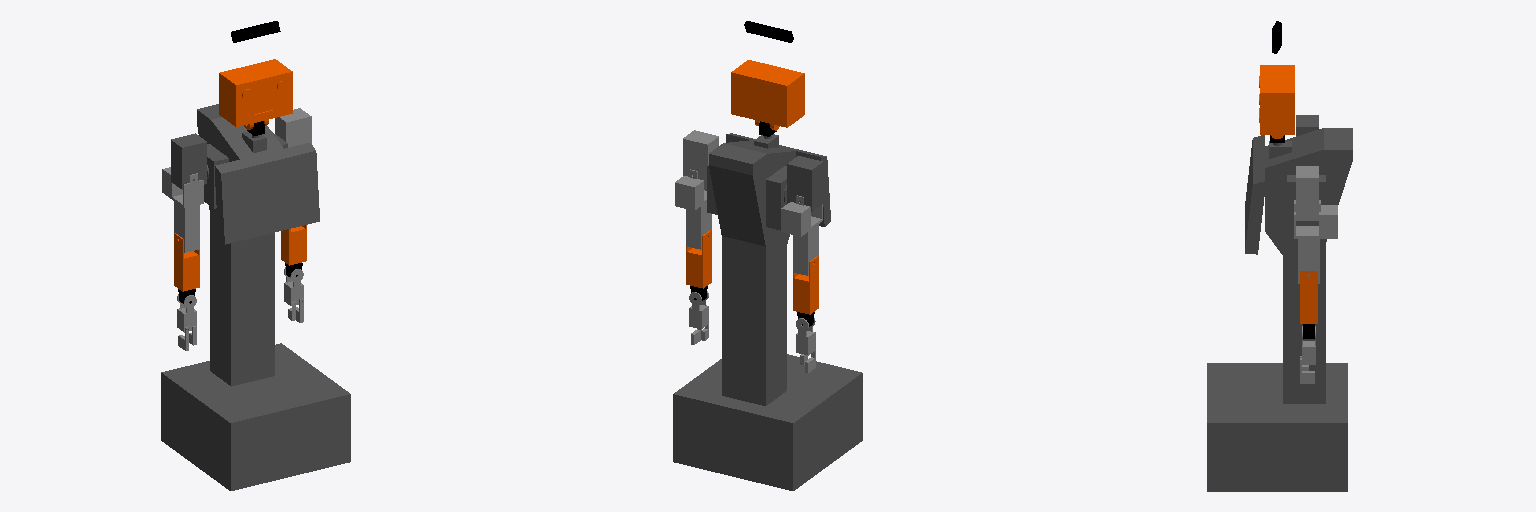
--- Render facts (derived) ---
Views: 3 orthographic renders of the robot side by side, from view 1: azimuth 30°, elevation 25°; view 2: azimuth 150°, elevation 25°; view 3: azimuth 270°, elevation 25°.
Model tangymodel_eff with 23 links and 22 joints (18 revolute, 4 fixed), rooted at dummy_link, posed all joints at 0.
Visible links, largest first — view 1: base_link, head_link, right_shoulder_pitch_link, lower_right_arm, left_shoulder_pitch_link, upper_right_arm, right_shoulder_roll_link, lower_left_arm, left_hand, kinect_link, right_hand; view 2: base_link, head_link, right_shoulder_pitch_link, left_shoulder_pitch_link, right_shoulder_roll_link, lower_left_arm, lower_right_arm, left_shoulder_roll_link, upper_right_arm, upper_left_arm, right_hand, left_hand (+1 smaller); view 3: base_link, head_link, left_shoulder_pitch_link, left_shoulder_roll_link, lower_left_arm, upper_left_arm.
Boxes of the visible links, left/top/right/bottom form: base_link: left=161, top=104, right=350, bottom=490; head_link: left=219, top=59, right=292, bottom=129; right_shoulder_pitch_link: left=171, top=133, right=206, bottom=189; lower_right_arm: left=174, top=233, right=199, bottom=291; left_shoulder_pitch_link: left=275, top=108, right=311, bottom=147; upper_right_arm: left=174, top=201, right=199, bottom=252; right_shoulder_roll_link: left=162, top=167, right=203, bottom=207; lower_left_arm: left=281, top=225, right=306, bottom=265; left_hand: left=284, top=267, right=303, bottom=305; kinect_link: left=231, top=21, right=280, bottom=42; right_hand: left=177, top=294, right=196, bottom=332; base_link: left=673, top=133, right=862, bottom=490; head_link: left=731, top=60, right=804, bottom=130; right_shoulder_pitch_link: left=787, top=156, right=823, bottom=211; left_shoulder_pitch_link: left=683, top=130, right=718, bottom=185; right_shoulder_roll_link: left=781, top=195, right=822, bottom=236; lower_left_arm: left=686, top=230, right=711, bottom=288; lower_right_arm: left=793, top=256, right=818, bottom=314; left_shoulder_roll_link: left=675, top=169, right=706, bottom=210; upper_right_arm: left=793, top=224, right=818, bottom=275; upper_left_arm: left=686, top=202, right=711, bottom=249; right_hand: left=796, top=318, right=815, bottom=355; left_hand: left=689, top=291, right=708, bottom=328; base_link: left=1207, top=128, right=1352, bottom=491; head_link: left=1259, top=65, right=1294, bottom=138; left_shoulder_pitch_link: left=1296, top=166, right=1318, bottom=220; left_shoulder_roll_link: left=1294, top=200, right=1337, bottom=238; lower_left_arm: left=1300, top=271, right=1317, bottom=323; upper_left_arm: left=1298, top=239, right=1319, bottom=283.
Size in the robot's own frame: 0.516 by 0.498 by 1.62 metres.
Meshes: 19 distinct files referenced, 19 mesh visuals loaded (19 binary STL).

robot.urdf — tangymodel_eff:
<robot
  name="tangymodel_eff">

<!-- ...........................................................Dummy Frame .......................................... -->
  <link
    name="dummy_link">
    <inertial>
      <origin
        xyz="0 0 0"
        rpy="0 0 0" />
      <mass
        value="0" />
      <inertia
        ixx="0"
        ixy="0"
        ixz="0"
        iyy="0"
        iyz="0"
        izz="0" />
    </inertial>
    <visual>
      <origin
        xyz="0 0 0"
        rpy="0 0 0" />
      <geometry>
        <box size="0.0001 0.0001 0.0001"/>
      </geometry>
      <material
        name="">
        <color
          rgba="0.392 0.392 0.392 1" />
      </material>
    </visual>
    <collision>
      <origin
        xyz="0 0 0"
        rpy="0 0 0" />
      <geometry>
        <box size="0.00001 0.00001 0.00001"/>
      </geometry>
    </collision>
  </link>
  <joint
    name="dummy_to_base_link"
    type="fixed">
    <parent
      link="dummy_link" />
    <child
      link="base_link" />
    <origin
      xyz="0.16 0.32 0.52"
      rpy="0 0 0" />
    <limit
      lower="0"
      upper="0"
      effort="10"
      velocity="3"/>
  </joint>
  

<!--  ............................................................Torso..................................................   -->

  <link
    name="base_link">
    <inertial>
      <origin
        xyz="-0.15668 -0.28879 -0.1123"
        rpy="0 0 0" />
      <mass
        value="98.584" />
      <inertia
        ixx="16.47"
        ixy="-0.00095546"
        ixz="0.0055037"
        iyy="16.277"
        iyz="1.152"
        izz="2.8488" />
    </inertial>
    <visual>
      <origin
        xyz="0 0 0"
        rpy="0 0 0" />
      <geometry>
        <mesh
          filename="package://tangymodel_eff/meshes/base_link.STL" />
      </geometry>
      <material
        name="">
        <color
          rgba="0.392 0.392 0.392 1" />
      </material>
    </visual>
    <collision>
      <origin
        xyz="0 0 0"
        rpy="0 0 0" />
      <geometry>
        <mesh
          filename="package://tangymodel_eff/meshes/base_link.STL" />
      </geometry>
    </collision>
  </link>

<!-- ................................................................Head............................................  -->

  <link
    name="neck_link">
    <inertial>
      <origin
        xyz="-5.5511E-17 0.03245 0"
        rpy="0 0 0" />
      <mass
        value="0.11094" />
      <inertia
        ixx="5.0402E-05"
        ixy="-1.3803E-21"
        ixz="-1.5165E-22"
        iyy="3.5718E-05"
        iyz="-1.782E-20"
        izz="4.4646E-05" />
    </inertial>
    <visual>
      <origin
        xyz="0 0 0"
        rpy="0 0 0" />
      <geometry>
        <mesh
          filename="package://tangymodel_eff/meshes/neck_link.STL" />
      </geometry>
      <material
        name="">
        <color
          rgba="0 0 0 1" />
      </material>
    </visual>
    <collision>
      <origin
        xyz="0 0 0"
        rpy="0 0 0" />
      <geometry>
        <mesh
          filename="package://tangymodel_eff/meshes/neck_link.STL" />
      </geometry>
    </collision>
  </link>
  <joint
    name="neck_to_z_revolute"
    type="revolute">
    <origin
      xyz="-0.15677 -0.31736 0.68915"
      rpy="1.5708 0 0" />
    <parent
      link="base_link" />
    <child
      link="neck_link" />
    <axis
      xyz="0 -1 0" />
    <limit
      lower="-0.7853"
      upper="0.7853"
      effort="10"
      velocity="3" />
  </joint>
  <link
    name="head_link">
    <inertial>
      <origin
        xyz="0.00038888 0.10329 0"
        rpy="0 0 0" />
      <mass
        value="4.4164" />
      <inertia
        ixx="0.028366"
        ixy="1.9027E-06"
        ixz="1.2865E-18"
        iyy="0.023632"
        iyz="1.4521E-19"
        izz="0.015291" />
    </inertial>
    <visual>
      <origin
        xyz="0 0 0"
        rpy="0 0 0" />
      <geometry>
        <mesh
          filename="package://tangymodel_eff/meshes/head_link.STL" />
      </geometry>
      <material
        name="">
        <color
          rgba="1 0.416 0 1" />
      </material>
    </visual>
    <collision>
      <origin
        xyz="0 0 0"
        rpy="0 0 0" />
      <geometry>
        <mesh
          filename="package://tangymodel_eff/meshes/head_link.STL" />
      </geometry>
    </collision>
  </link>
  <joint
    name="z_revolute_to_x_revolute"
    type="revolute">
    <origin
      xyz="0 0.05 0"
      rpy="1.5708 -1.5708 -1.5708" />
    <parent
      link="neck_link" />
    <child
      link="head_link" />
    <axis
      xyz="0 0 1" />
    <limit
      lower="-0.3926"
      upper="0.3926"
      effort="10"
      velocity="3" />
  </joint>


<!-- ..............................................................Right Arm...................................................... -->

  <link
    name="right_shoulder_pitch_link">
    <inertial>
      <origin
        xyz="-0.0050069 0.04493 -0.054937"
        rpy="0 0 0" />
      <mass
        value="1.282" />
      <inertia
        ixx="0.0038059"
        ixy="4.8043E-07"
        ixz="4.9634E-07"
        iyy="0.0017545"
        iyz="-3.6072E-06"
        izz="0.0034183" />
    </inertial>
    <visual>
      <origin
        xyz="0 0 0"
        rpy="0 0 0" />
      <geometry>
        <mesh
          filename="package://tangymodel_eff/meshes/right_shoulder_pitch_link.STL" />
      </geometry>
      <material
        name="">
        <color
          rgba="0.392 0.392 0.392 1" />
      </material>
    </visual>
    <collision>
      <origin
        xyz="0 0 0"
        rpy="0 0 0" />
      <geometry>
        <mesh
          filename="package://tangymodel_eff/meshes/right_shoulder_pitch_link.STL" />
      </geometry>
    </collision>
  </link>
  <joint
    name="right_shoulder_x_revolute"
    type="revolute">
    <origin
      xyz="-0.30977 -0.20989 0.54535"
      rpy="1.5708 0 1.5708" />
    <parent
      link="base_link" />
    <child
      link="right_shoulder_pitch_link" />
    <axis
      xyz="0 0 -1" />
    <limit
      lower="-0.34907"
      upper="3.35103"
      effort="100"
      velocity="3" />
  </joint>
  <link
    name="right_shoulder_roll_link">
    <inertial>
      <origin
        xyz="-0.01 -0.0637 -0.05109"
        rpy="0 0 0" />
      <mass
        value="0.57779" />
      <inertia
        ixx="0.0013906"
        ixy="-6.7526E-20"
        ixz="-9.213E-21"
        iyy="0.0012248"
        iyz="-0.00011954"
        izz="0.00077311" />
    </inertial>
    <visual>
      <origin
        xyz="0 0 0"
        rpy="0 0 0" />
      <geometry>
        <mesh
          filename="package://tangymodel_eff/meshes/right_shoulder_roll_link.STL" />
      </geometry>
      <material
        name="">
        <color
          rgba="0.588 0.588 0.588 1" />
      </material>
    </visual>
    <collision>
      <origin
        xyz="0 0 0"
        rpy="0 0 0" />
      <geometry>
        <mesh
          filename="package://tangymodel_eff/meshes/right_shoulder_roll_link.STL" />
      </geometry>
    </collision>
  </link>
  <joint
    name="upper_right_arm_y_revolute_joint"
    type="revolute">
    <origin
      xyz="0 0 -0.05"
      rpy="0 -1.5708 0" />
    <parent
      link="right_shoulder_pitch_link" />
    <child
      link="right_shoulder_roll_link" />
    <axis
      xyz="0 0 1" />
    <limit
      lower="-1.9199"
      upper="0"
      effort="100"
      velocity="3" />
  </joint>
  <link
    name="upper_right_arm">
    <inertial>
      <origin
        xyz="1.6669E-05 -0.086496 0"
        rpy="0 0 0" />
      <mass
        value="0.76566" />
      <inertia
        ixx="0.0022039"
        ixy="-6.3819E-07"
        ixz="-4.4538E-20"
        iyy="0.00058852"
        iyz="-1.4684E-19"
        izz="0.0020752" />
    </inertial>
    <visual>
      <origin
        xyz="0 0 0"
        rpy="0 0 0" />
      <geometry>
        <mesh
          filename="package://tangymodel_eff/meshes/upper_right_arm.STL" />
      </geometry>
      <material
        name="">
        <color
          rgba="0.588 0.588 0.588 1" />
      </material>
    </visual>
    <collision>
      <origin
        xyz="0 0 0"
        rpy="0 0 0" />
      <geometry>
        <mesh
          filename="package://tangymodel_eff/meshes/upper_right_arm.STL" />
      </geometry>
    </collision>
  </link>
  <joint
    name="upper_right_arm_z_revolute_joint"
    type="revolute">
    <origin
      xyz="-0.01 -0.11 0"
      rpy="0 0 0" />
    <parent
      link="right_shoulder_roll_link" />
    <child
      link="upper_right_arm" />
    <axis
      xyz="0 -1 0" />
    <limit
      lower="-1.8326"
      upper="1.8326"
      effort="100"
      velocity="3" />
  </joint>
  <link
    name="lower_right_arm">
    <inertial>
      <origin
        xyz="-3.0531E-16 -0.11496 5.5511E-17"
        rpy="0 0 0" />
      <mass
        value="0.57079" />
      <inertia
        ixx="0.0013783"
        ixy="2.3875E-18"
        ixz="-6.9845E-21"
        iyy="0.00043224"
        iyz="-1.2881E-19"
        izz="0.0012882" />
    </inertial>
    <visual>
      <origin
        xyz="0 0 0"
        rpy="0 0 0" />
      <geometry>
        <mesh
          filename="package://tangymodel_eff/meshes/lower_right_arm.STL" />
      </geometry>
      <material
        name="">
        <color
          rgba="1 0.416 0 1" />
      </material>
    </visual>
    <collision>
      <origin
        xyz="0 0 0"
        rpy="0 0 0" />
      <geometry>
        <mesh
          filename="package://tangymodel_eff/meshes/lower_right_arm.STL" />
      </geometry>
    </collision>
  </link>
  <joint
    name="upper_to_lower_right_joint"
    type="revolute">
    <origin
      xyz="0 -0.1365 0"
      rpy="0 1.5708 0" />
    <parent
      link="upper_right_arm" />
    <child
      link="lower_right_arm" />
    <axis
      xyz="0 0 1" />
    <limit
      lower="-2.2515"
      upper="0"
      effort="100"
      velocity="3" />
  </joint>
  <link
    name="right_wrist_link">
    <inertial>
      <origin
        xyz="-9.359E-05 0.031821 5.5511E-17"
        rpy="0 0 0" />
      <mass
        value="0.094409" />
      <inertia
        ixx="3.9877E-05"
        ixy="-1.1645E-07"
        ixz="4.4633E-21"
        iyy="2.5724E-05"
        iyz="-1.1782E-20"
        izz="3.9412E-05" />
    </inertial>
    <visual>
      <origin
        xyz="0 0 0"
        rpy="0 0 0" />
      <geometry>
        <mesh
          filename="package://tangymodel_eff/meshes/right_wrist_link.STL" />
      </geometry>
      <material
        name="">
        <color
          rgba="0 0 0 1" />
      </material>
    </visual>
    <collision>
      <origin
        xyz="0 0 0"
        rpy="0 0 0" />
      <geometry>
        <mesh
          filename="package://tangymodel_eff/meshes/right_wrist_link.STL" />
      </geometry>
    </collision>
  </link>
  <joint
    name="wrist_right_arm_z_revolute_joint"
    type="revolute">
    <origin
      xyz="0 -0.19 0"
      rpy="3.141 0 0" />
    <parent
      link="lower_right_arm" />
    <child
      link="right_wrist_link" />
    <axis
      xyz="0 1 0" />
    <limit
      lower="-1.5708"
      upper="1.5708"
      effort="25"
      velocity="3" />
  </joint>
  <link
    name="right_hand">
    <inertial>
      <origin
        xyz="-5.5511E-17 -2.713E-05 0.061837"
        rpy="0 0 0" />
      <mass
        value="0.19902" />
      <inertia
        ixx="0.00022561"
        ixy="1.0575E-21"
        ixz="9.7799E-21"
        iyy="0.00021686"
        iyz="-1.7907E-07"
        izz="8.8688E-05" />
    </inertial>
    <visual>
      <origin
        xyz="0 0 0"
        rpy="0 0 0" />
      <geometry>
        <mesh
          filename="package://tangymodel_eff/meshes/right_hand.STL" />
      </geometry>
      <material
        name="">
        <color
          rgba="0.588 0.588 0.588 1" />
      </material>
    </visual>
    <collision>
      <origin
        xyz="0 0 0"
        rpy="0 0 0" />
      <geometry>
        <mesh
          filename="package://tangymodel_eff/meshes/right_hand.STL" />
      </geometry>
    </collision>
  </link>
  <joint
    name="lower_to_wrist_right_arm"
    type="revolute">
    <origin
      xyz="0 0.05 0"
      rpy="-1.5708 -1.5708 0" />
    <parent
      link="right_wrist_link" />
    <child
      link="right_hand" />
    <axis
      xyz="0 -1 0" />
    <limit
      lower="-1.0472"
      upper="1.48353"
      effort="0"
      velocity="0" />
  </joint>
  <link
    name="right_top_fingers">
    <inertial>
      <origin
        xyz="-0.0072645 -5.5511E-17 0.055647"
        rpy="0 0 0" />
      <mass
        value="0.033357" />
      <inertia
        ixx="1.0957E-05"
        ixy="2.9435E-21"
        ixz="2.9379E-06"
        iyy="1.8112E-05"
        iyz="-8.2775E-22"
        izz="8.4159E-06" />
    </inertial>
    <visual>
      <origin
        xyz="0 0 0"
        rpy="0 0 0" />
      <geometry>
        <mesh
          filename="package://tangymodel_eff/meshes/right_top_fingers.STL" />
      </geometry>
      <material
        name="">
        <color
          rgba="0.588 0.588 0.588 1" />
      </material>
    </visual>
    <collision>
      <origin
        xyz="0 0 0"
        rpy="0 0 0" />
      <geometry>
        <mesh
          filename="package://tangymodel_eff/meshes/right_top_fingers.STL" />
      </geometry>
    </collision>
  </link>
  <joint
    name="wrist_to_finger1_right_arm"
    type="revolute">
    <origin
      xyz="0.015 0 0.095"
      rpy="0 0 1.5708" />
    <parent
      link="right_hand" />
    <child
      link="right_top_fingers" />
    <axis
      xyz="1 0 0" />
    <limit
      lower="-0.68"
      upper="0"
      effort="50"
      velocity="3" />
  </joint>
  <link
    name="right_bottom_fingers">
    <inertial>
      <origin
        xyz="0.016728 0.042728 0"
        rpy="0 0 0" />
      <mass
        value="0.018277" />
      <inertia
        ixx="4.798E-06"
        ixy="-9.3943E-07"
        ixz="-1.8907E-22"
        iyy="1.8711E-06"
        iyz="9.6009E-22"
        izz="5.9803E-06" />
    </inertial>
    <visual>
      <origin
        xyz="0 0 0"
        rpy="0 0 0" />
      <geometry>
        <mesh
          filename="package://tangymodel_eff/meshes/right_bottom_fingers.STL" />
      </geometry>
      <material
        name="">
        <color
          rgba="0.588 0.588 0.588 1" />
      </material>
    </visual>
    <collision>
      <origin
        xyz="0 0 0"
        rpy="0 0 0" />
      <geometry>
        <mesh
          filename="package://tangymodel_eff/meshes/right_bottom_fingers.STL" />
      </geometry>
    </collision>
  </link>
  <joint
    name="wrist_to_finger2_right_arm"
    type="revolute">
    <origin
      xyz="-0.015 0 0.095"
      rpy="1.5708 0 -1.5708" />
    <parent
      link="right_hand" />
    <child
      link="right_bottom_fingers" />
    <axis
      xyz="-1 0 0" />
    <limit
      lower="0"
      upper="0.68"
      effort="50"
      velocity="3" />
  </joint>


<!-- .................................................................Left Shoulder.............................................  -->

  <link
    name="left_shoulder_pitch_link">
    <inertial>
      <origin
        xyz="0.0050069 0.04493 -0.051164"
        rpy="0 0 0" />
      <mass
        value="1.282" />
      <inertia
        ixx="0.0038059"
        ixy="-4.8043E-07"
        ixz="-4.9634E-07"
        iyy="0.0017545"
        iyz="-3.6072E-06"
        izz="0.0034183" />
    </inertial>
    <visual>
      <origin
        xyz="0 0 0"
        rpy="0 0 0" />
      <geometry>
        <mesh
          filename="package://tangymodel_eff/meshes/left_shoulder_pitch_link.STL" />
      </geometry>
      <material
        name="">
        <color
          rgba="0.588 0.588 0.588 1" />
      </material>
    </visual>
    <collision>
      <origin
        xyz="0 0 0"
        rpy="0 0 0" />
      <geometry>
        <mesh
          filename="package://tangymodel_eff/meshes/left_shoulder_pitch_link.STL" />
      </geometry>
    </collision>
  </link>
  <joint
    name="left_shoulder_x_revolute"
    type="revolute">
    <origin
      xyz="0 -0.20989 0.54535"
      rpy="1.5708 0 -1.5708" />
    <parent
      link="base_link" />
    <child
      link="left_shoulder_pitch_link" />
    <axis
      xyz="0 0 1" />
    <limit
      lower="-0.34907"
      upper="3.35103"
      effort="100"
      velocity="3" />
  </joint>
  <link
    name="left_shoulder_roll_link">
    <inertial>
      <origin
        xyz="0.0062272 -0.0637 -0.05109"
        rpy="0 0 0" />
      <mass
        value="0.57779" />
      <inertia
        ixx="0.0013906"
        ixy="4.8396E-20"
        ixz="-2.5898E-19"
        iyy="0.0012248"
        iyz="-0.00011954"
        izz="0.00077311" />
    </inertial>
    <visual>
      <origin
        xyz="0 0 0"
        rpy="0 0 0" />
      <geometry>
        <mesh
          filename="package://tangymodel_eff/meshes/left_shoulder_roll_link.STL" />
      </geometry>
      <material
        name="">
        <color
          rgba="0.588 0.588 0.588 1" />
      </material>
    </visual>
    <collision>
      <origin
        xyz="0 0 0"
        rpy="0 0 0" />
      <geometry>
        <mesh
          filename="package://tangymodel_eff/meshes/left_shoulder_roll_link.STL" />
      </geometry>
    </collision>
  </link>
  <joint
    name="upper_left_arm_y_revolute_joint"
    type="revolute">
    <origin
      xyz="0 0 -0.05"
      rpy="0 1.5708 0" />
    <parent
      link="left_shoulder_pitch_link" />
    <child
      link="left_shoulder_roll_link" />
    <axis
      xyz="0 0 -1" />
    <limit
      lower="-1.9198"
      upper="0"
      effort="100"
      velocity="3" />
  </joint>
  <link
    name="upper_left_arm">
    <inertial>
      <origin
        xyz="1.6671E-05 -0.085974 -8.3267E-17"
        rpy="0 0 0" />
      <mass
        value="0.76557" />
      <inertia
        ixx="0.0022032"
        ixy="-6.3806E-07"
        ixz="-7.4539E-20"
        iyy="0.00058852"
        iyz="1.3527E-18"
        izz="0.0020746" />
    </inertial>
    <visual>
      <origin
        xyz="0 0 0"
        rpy="0 0 0" />
      <geometry>
        <mesh
          filename="package://tangymodel_eff/meshes/upper_left_arm.STL" />
      </geometry>
      <material
        name="">
        <color
          rgba="0.588 0.588 0.588 1" />
      </material>
    </visual>
    <collision>
      <origin
        xyz="0 0 0"
        rpy="0 0 0" />
      <geometry>
        <mesh
          filename="package://tangymodel_eff/meshes/upper_left_arm.STL" />
      </geometry>
    </collision>
  </link>
  <joint
    name="upper_left_arm_z_revolute_joint"
    type="revolute">
    <origin
      xyz="0.0062272 -0.11003 0"
      rpy="0 0 0" />
    <parent
      link="left_shoulder_roll_link" />
    <child
      link="upper_left_arm" />
    <axis
      xyz="0 1 0" />
    <limit
      lower="-1.8326"
      upper="1.8326"
      effort="100"
      velocity="3" />
  </joint>
  <link
    name="lower_left_arm">
    <inertial>
      <origin
        xyz="-1.3878E-16 -0.11496 8.9512E-16"
        rpy="0 0 0" />
      <mass
        value="0.57079" />
      <inertia
        ixx="0.0013783"
        ixy="7.8732E-19"
        ixz="1.3553E-19"
        iyy="0.00043224"
        iyz="-6.3072E-18"
        izz="0.0012882" />
    </inertial>
    <visual>
      <origin
        xyz="0 0 0"
        rpy="0 0 0" />
      <geometry>
        <mesh
          filename="package://tangymodel_eff/meshes/lower_left_arm.STL" />
      </geometry>
      <material
        name="">
        <color
          rgba="1 0.416 0 1" />
      </material>
    </visual>
    <collision>
      <origin
        xyz="0 0 0"
        rpy="0 0 0" />
      <geometry>
        <mesh
          filename="package://tangymodel_eff/meshes/lower_left_arm.STL" />
      </geometry>
    </collision>
  </link>
  <joint
    name="upper_to_lower_left_joint"
    type="revolute">
    <origin
      xyz="0 -0.13597 0"
      rpy="0 -1.5708 0" />
    <parent
      link="upper_left_arm" />
    <child
      link="lower_left_arm" />
    <axis
      xyz="0 0 -1" />
    <limit
      lower="-2.2515"
      upper="0"
      effort="100"
      velocity="3" />
  </joint>
  <link
    name="left_wrist_link">
    <inertial>
      <origin
        xyz="-9.359E-05 0.031809 -9.0206E-17"
        rpy="0 0 0" />
      <mass
        value="0.094409" />
      <inertia
        ixx="3.9877E-05"
        ixy="-1.1645E-07"
        ixz="-2.8058E-21"
        iyy="2.5724E-05"
        iyz="-3.121E-20"
        izz="3.9412E-05" />
    </inertial>
    <visual>
      <origin
        xyz="0 0 0"
        rpy="0 0 0" />
      <geometry>
        <mesh
          filename="package://tangymodel_eff/meshes/left_wrist_link.STL" />
      </geometry>
      <material
        name="">
        <color
          rgba="0 0 0 1" />
      </material>
    </visual>
    <collision>
      <origin
        xyz="0 0 0"
        rpy="0 0 0" />
      <geometry>
        <mesh
          filename="package://tangymodel_eff/meshes/left_wrist_link.STL" />
      </geometry>
    </collision>
  </link>
  <joint
    name="wrist_left_arm_z_revolute_joint"
    type="revolute">
    <origin
      xyz="0 -0.19001 0"
      rpy="3.141 0 0" />
    <parent
      link="lower_left_arm" />
    <child
      link="left_wrist_link" />
    <axis
      xyz="0 -1 0" />
    <limit
      lower="-1.5708"
      upper="1.5708"
      effort="25"
      velocity="3" />
  </joint>
  <link
    name="left_hand">
    <inertial>
      <origin
        xyz="0 -2.713E-05 0.061825"
        rpy="0 0 0" />
      <mass
        value="0.19902" />
      <inertia
        ixx="0.00022561"
        ixy="-4.5316E-20"
        ixz="8.7405E-20"
        iyy="0.00021686"
        iyz="-1.7907E-07"
        izz="8.8688E-05" />
    </inertial>
    <visual>
      <origin
        xyz="0 0 0"
        rpy="0 0 0" />
      <geometry>
        <mesh
          filename="package://tangymodel_eff/meshes/left_hand.STL" />
      </geometry>
      <material
        name="">
        <color
          rgba="0.588 0.588 0.588 1" />
      </material>
    </visual>
    <collision>
      <origin
        xyz="0 0 0"
        rpy="0 0 0" />
      <geometry>
        <mesh
          filename="package://tangymodel_eff/meshes/left_hand.STL" />
      </geometry>
    </collision>
  </link>
  <joint
    name="lower_to_wrist_left_arm"
    type="revolute">
    <origin
      xyz="0 0.05 0"
      rpy="-1.5708 1.5708 0" />
    <parent
      link="left_wrist_link" />
    <child
      link="left_hand" />
    <axis
      xyz="0 1 0" />
    <limit
      lower="-1.0472"
      upper="1.48353"
      effort="25"
      velocity="3" />
  </joint>
  <link
    name="left_top_fingers">
    <inertial>
      <origin
        xyz="-0.0072645 0 0.055647"
        rpy="0 0 0" />
      <mass
        value="0.033357" />
      <inertia
        ixx="1.0957E-05"
        ixy="-1.8449E-20"
        ixz="2.9379E-06"
        iyy="1.8112E-05"
        iyz="-7.0054E-21"
        izz="8.4159E-06" />
    </inertial>
    <visual>
      <origin
        xyz="0 0 0"
        rpy="0 0 0" />
      <geometry>
        <mesh
          filename="package://tangymodel_eff/meshes/left_top_fingers.STL" />
      </geometry>
      <material
        name="">
        <color
          rgba="0.588 0.588 0.588 1" />
      </material>
    </visual>
    <collision>
      <origin
        xyz="0 0 0"
        rpy="0 0 0" />
      <geometry>
        <mesh
          filename="package://tangymodel_eff/meshes/left_top_fingers.STL" />
      </geometry>
    </collision>
  </link>
  <joint
    name="wrist_to_finger1_left_arm"
    type="revolute">
    <origin
      xyz="-0.015 0 0.094988"
      rpy="0 0 1.5708" />
    <parent
      link="left_hand" />
    <child
      link="left_top_fingers" />
    <axis
      xyz="1 0 0" />
    <limit
      lower="-0.68"
      upper="0"
      effort="10"
      velocity="3" />
  </joint>
  <link
    name="left_bottom_fingers">
    <inertial>
      <origin
        xyz="0.0167281620288509 -0.0427282906188924 -4.85722573273506E-17"
        rpy="0 0 0" />
      <mass
        value="0.0182768252295753" />
      <inertia
        ixx="4.7979749986511E-06"
        ixy="9.39430284405547E-07"
        ixz="-2.39551505395357E-21"
        iyy="1.87112397057946E-06"
        iyz="-2.00425862421599E-21"
        izz="5.98034326538814E-06" />
    </inertial>
    <visual>
      <origin
        xyz="0 0 0"
        rpy="0 0 0" />
      <geometry>
        <mesh
          filename="package://tangymodel_eff/meshes/left_bottom_fingers.STL" />
      </geometry>
      <material
        name="">
        <color
          rgba="0.588 0.588 0.588 1" />
      </material>
    </visual>
    <collision>
      <origin
        xyz="0 0 0"
        rpy="0 0 0" />
      <geometry>
        <mesh
          filename="package://tangymodel_eff/meshes/left_bottom_fingers.STL" />
      </geometry>
    </collision>
  </link>
  <joint
    name="wrist_to_finger2_left_arm"
    type="revolute">
    <origin
      xyz="0.015 0 0.094988"
      rpy="-1.5708 0 -1.5708" />
    <parent
      link="left_hand" />
    <child
      link="left_bottom_fingers" />
    <axis
      xyz="-1 0 0" />
    <limit
      lower="0"
      upper="0.68"
      effort="10"
      velocity="3" />
  </joint>


<!-- ............................................................Kinect Sensor................................................ -->

  <joint name="kinect_joint" type="fixed">
    <limit effort="1000.0" lower="0" upper="0" velocity="0"/>
    <parent link="dummy_link"/>
    <child link="kinect_link"/>
    <origin rpy="0 2.7 -1.5705" xyz="0 0 1.60"/>
  </joint>
  <link name="kinect_link">
    <visual>
      <geometry>
        <box size="0.02 0.18 0.04"/>
      </geometry>
      <material name="grey">
        <color rgba="0 0 0 0.5"/>
      </material>
    </visual>
    <collision>
      <geometry>
        <box size="0.0001 0.0001 0.0001"/>
      </geometry>
    </collision>
    <inertial>
      <mass value="0.01"/>
      <inertia ixx=".0001" ixy="0.0" ixz="0.0" iyy=".0001" iyz="0.0" izz=".0001"/>
    </inertial>
  </link>
  <joint name="kinect_depth_joint" type="fixed">
    <limit effort="1000.0" lower="0" upper="0" velocity="0"/>
    <parent link="kinect_link"/>
    <child link="kinect_depth_frame"/>
    <origin rpy="0 -0.05 -1.5705" xyz="0 0 0"/>
  </joint>
  <link name="kinect_depth_frame" >
    <visual>
      <geometry>
        <box size="0.0001 0.0001 0.0001"/>
      </geometry>
      <material name="grey">
        <color rgba="0 0 0 0.5"/>
      </material>
    </visual>
    <collision>
      <geometry>
        <box size="0.0001 0.0001 0.0001"/>
      </geometry>
    </collision>
    <inertial>
      <mass value="0.01"/>
      <inertia ixx=".0001" ixy="0.0" ixz="0.0" iyy=".0001" iyz="0.0" izz=".0001"/>
    </inertial>
  </link>
  <joint name="kinect_optical_joint" type="fixed">
    <origin rpy="0 0.0 0" xyz="0 0.001 0"/>
    <parent link="kinect_depth_frame"/>
    <child link="kinect_rgb_optical_frame"/>
  </joint>
  <link name="kinect_rgb_optical_frame" >
    <visual>
      <geometry>
        <box size="0.0001 0.0001 0.0001"/>
      </geometry>
      <material name="grey">
        <color rgba="0 0 0 0.5"/>
      </material>
    </visual>
    <collision>
      <geometry>
        <box size="0.0001 0.0001 0.0001"/>
      </geometry>
    </collision>
    <inertial>
      <mass value="0.01"/>
      <inertia ixx=".0001" ixy="0.0" ixz="0.0" iyy=".0001" iyz="0.0" izz=".0001"/>
    </inertial>
  </link>
</robot>
